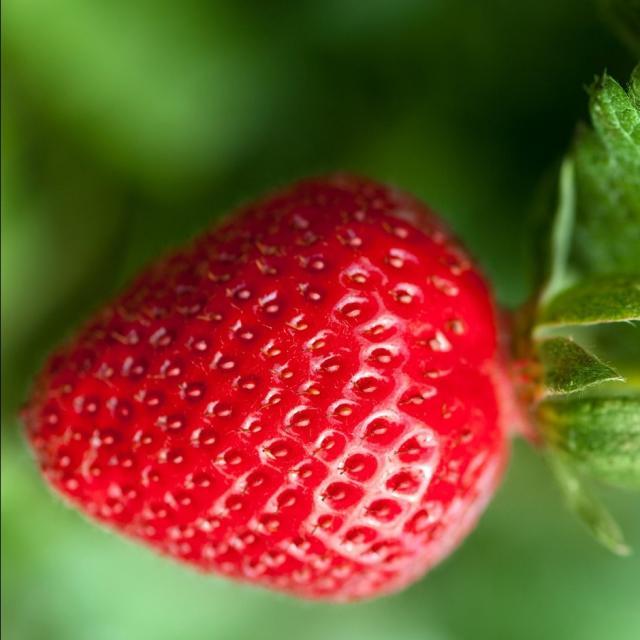strawberry: (0, 154, 640, 639)
